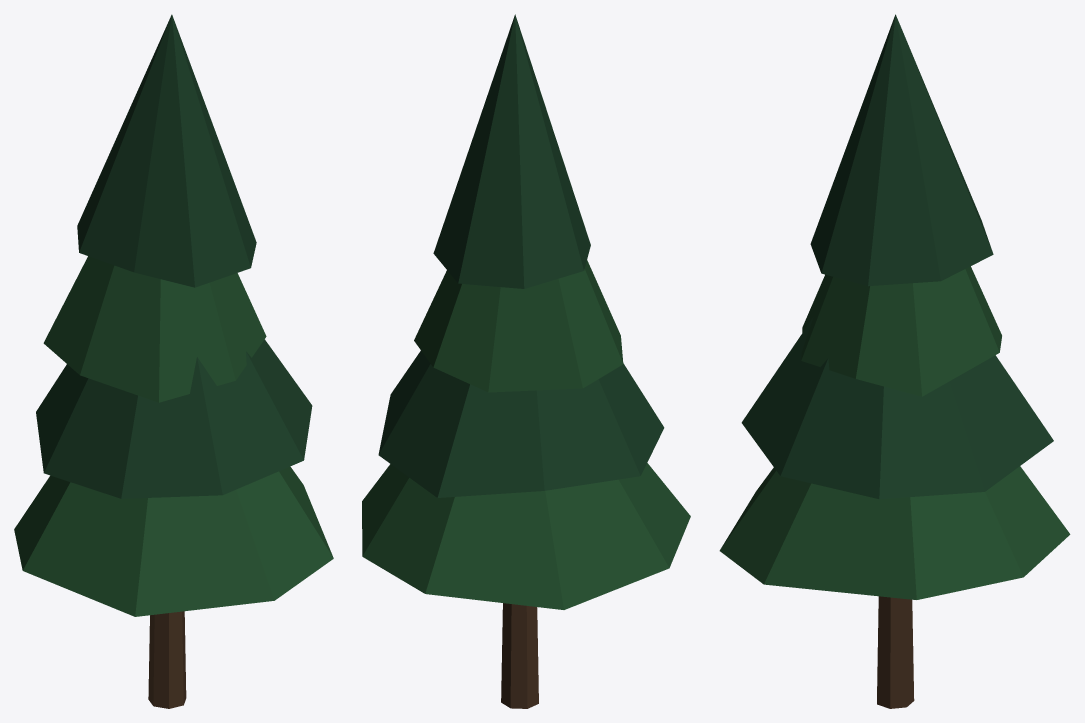
Rendered from pine.glb.
3 renders of one model, left to right at view 1: azimuth 30°, elevation 25°; view 2: azimuth 150°, elevation 25°; view 3: azimuth 270°, elevation 25°, orthographic.
Parts seen in each view (by area): view 1: pine; view 2: pine; view 3: pine.
Part boxes in pixels (x1,y1,x2,y2): pine: [14, 14, 333, 708]; pine: [362, 14, 690, 708]; pine: [719, 14, 1070, 708].
Bounding box in the file's own units: 5.65 × 12.58 × 5.81.
